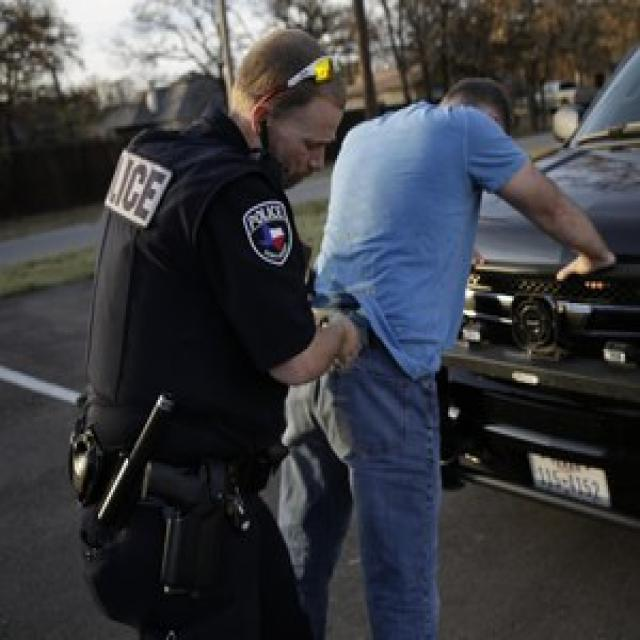police: (58, 20, 348, 640)
